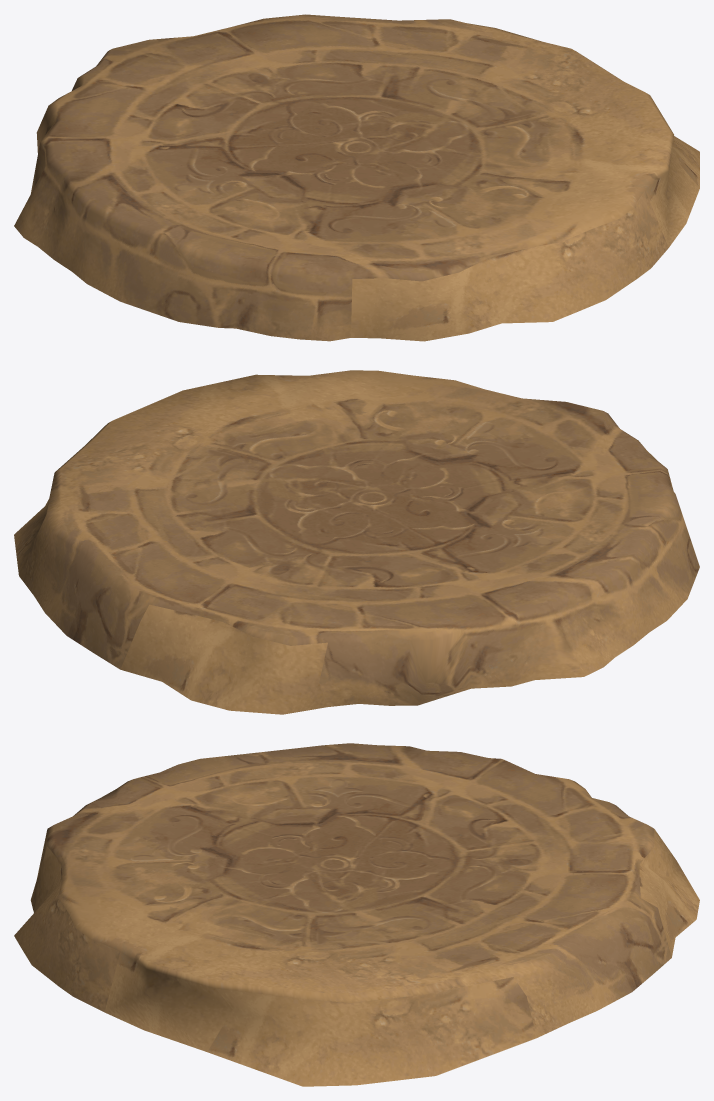
Rendered from sm_dixing_3.FBX.
3 views of the same model, one above another, from view 1: azimuth 30°, elevation 25°; view 2: azimuth 150°, elevation 25°; view 3: azimuth 270°, elevation 25° (orthographic). The views are drawn at different scales.
Visible parts, largest first — view 1: sm_dixing_3; view 2: sm_dixing_3; view 3: sm_dixing_3.
Part boxes in pixels (x1,y1,x2,y2): sm_dixing_3: [14, 14, 699, 341]; sm_dixing_3: [14, 370, 699, 714]; sm_dixing_3: [14, 743, 699, 1086].
Bounding box in the file's own units: 3497 × 421 × 3546.
